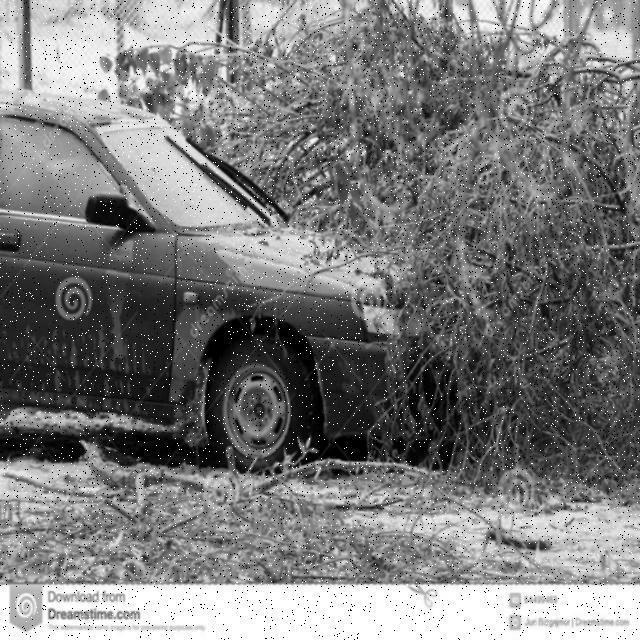Runningboard-Damage: (1, 378, 169, 434)
fender-dent: (172, 286, 293, 457)
